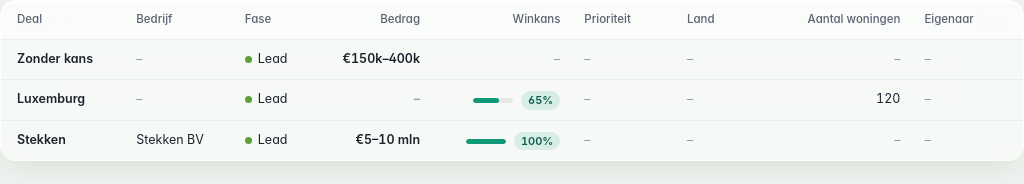
Test: FunnelTable › sorts by Winkans with empty values last, cycling asc, desc, none
Click the button "Winkans": (528, 20) [493,9,564,30]
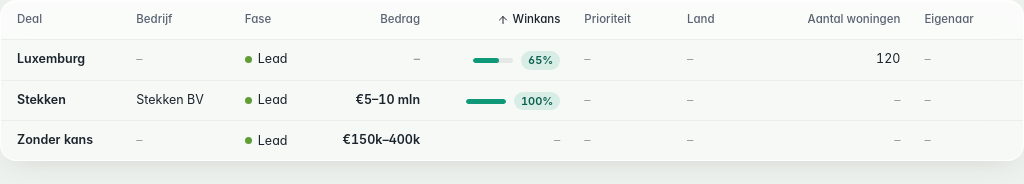
Expected: the column heading "Winkans" has attribute aria-sort="ascending", [432,1,572,40]
Click the button "Winkans": (528, 20) [493,9,564,30]
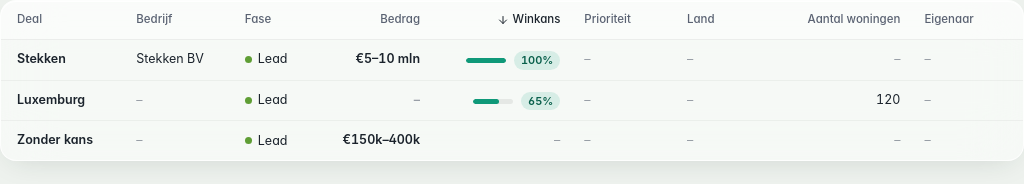
Expected: the column heading "Winkans" has attribute aria-sort="descending", [432,1,572,40]
Click the button "Winkans": (528, 20) [493,9,564,30]
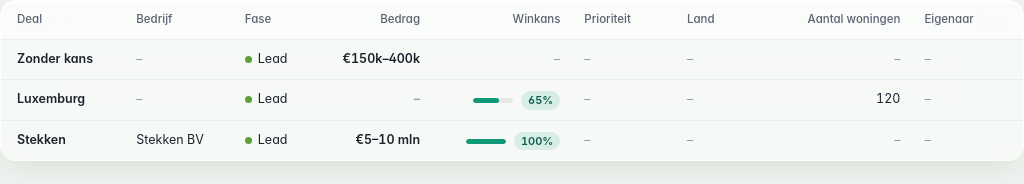
Expected: the column heading "Winkans" has attribute aria-sort="none", [432,1,572,40]
